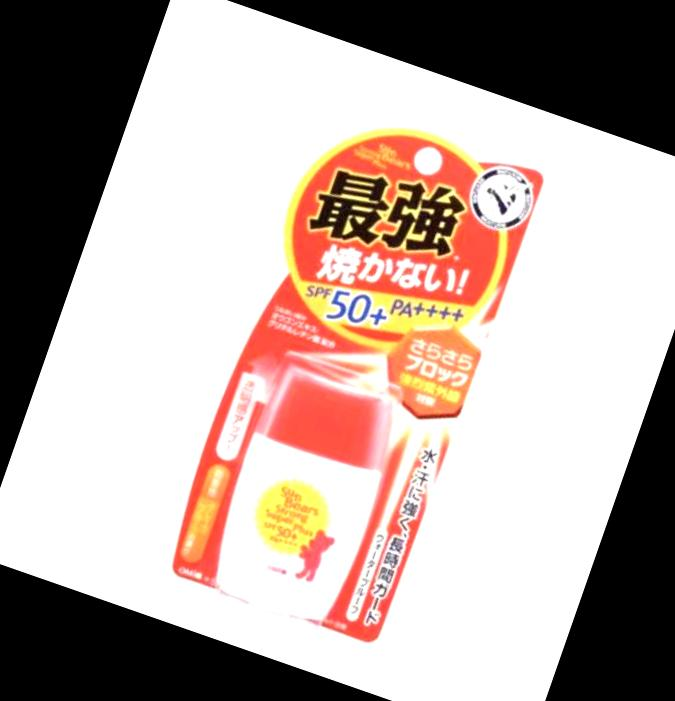cosmetic: (199, 360, 409, 637)
